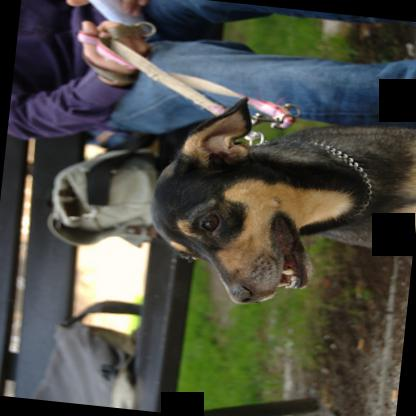handbag: (28, 300, 142, 410), (47, 145, 163, 245)
